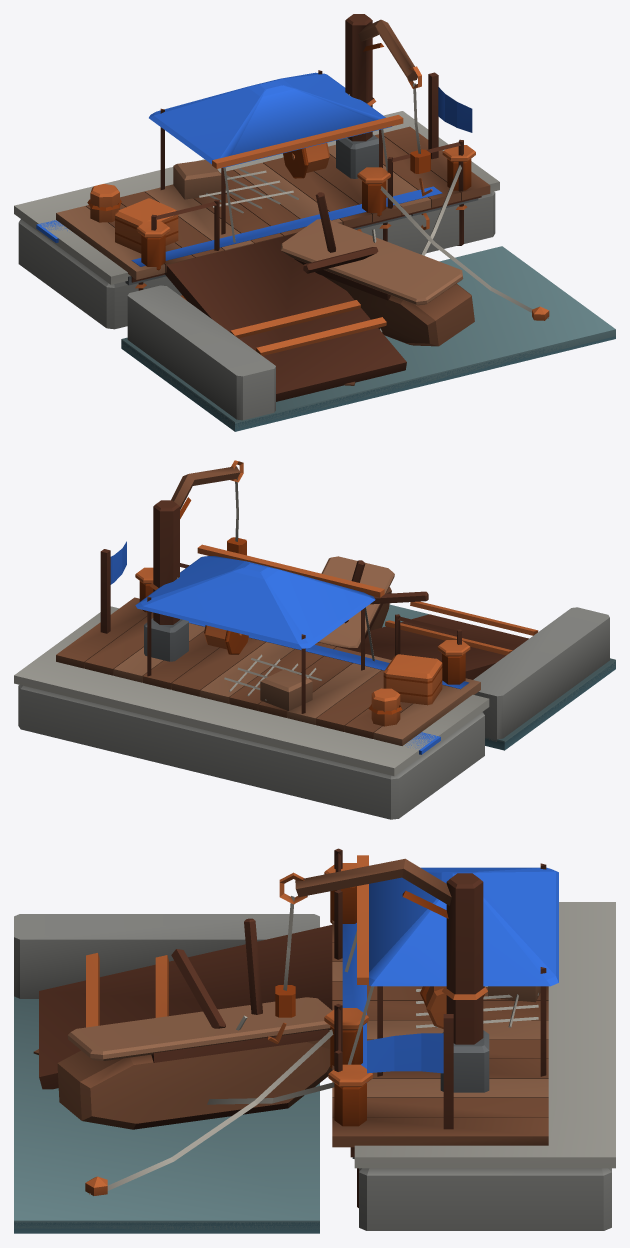
The model's file is n_dock.glb.
The picture shows the model from 3 angles, top to bottom: view 1: azimuth 30°, elevation 25°; view 2: azimuth 150°, elevation 25°; view 3: azimuth 270°, elevation 25°; orthographic projection. The views are drawn at different scales.
Parts seen in each view (by area): view 1: body, spinWinch, swayFlag, swayHook; view 2: body, spinWinch, swayHook; view 3: body, swayFlag, swayHook, spinWinch.
Part boxes in pixels (left/top/right/bottom): body: left=14, top=14, right=615, bottom=431; spinWinch: left=283, top=143, right=329, bottom=178; swayFlag: left=438, top=87, right=472, bottom=132; swayHook: left=410, top=83, right=432, bottom=196; body: left=14, top=460, right=615, bottom=819; spinWinch: left=204, top=625, right=248, bottom=654; swayHook: left=227, top=478, right=246, bottom=555; body: left=14, top=848, right=615, bottom=1233; swayFlag: left=367, top=1033, right=443, bottom=1073; swayHook: left=268, top=896, right=295, bottom=1043; spinWinch: left=420, top=986, right=484, bottom=1028.
Bounding box in the file's own units: 2.98 × 1.71 × 2.95.
